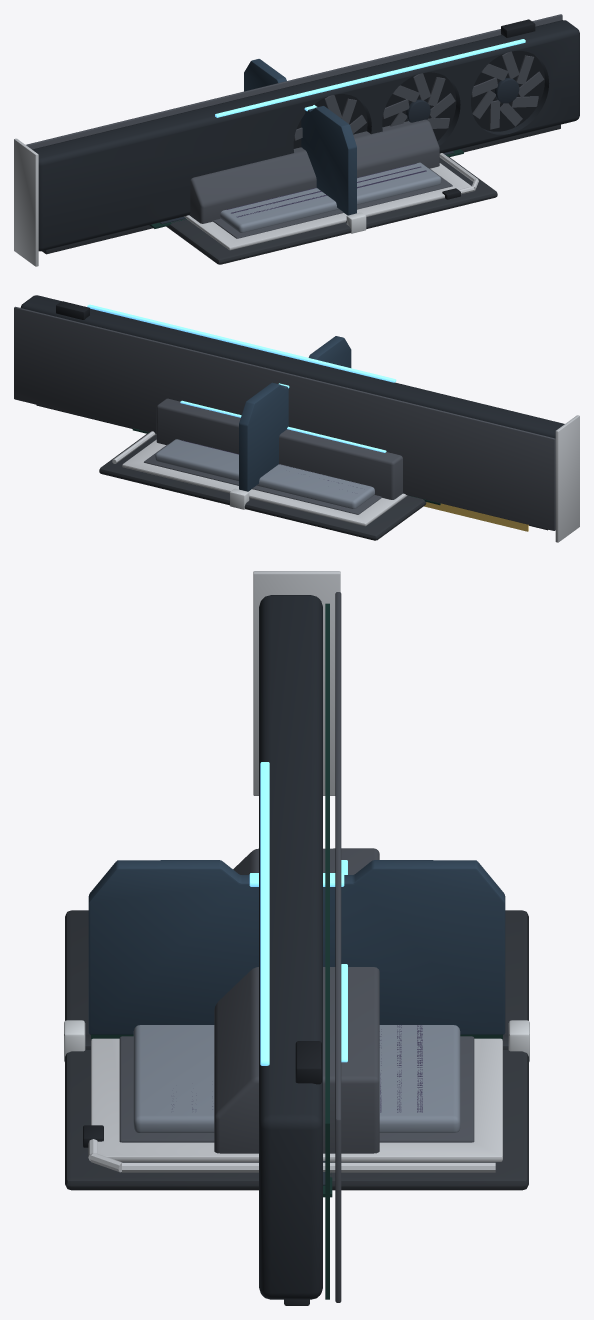
File: parts.glb
3 renders of one model, top to bottom at view 1: azimuth 30°, elevation 25°; view 2: azimuth 150°, elevation 25°; view 3: azimuth 270°, elevation 25°, orthographic. The views are drawn at different scales.
Visible parts, largest first — view 1: gpu, cpu, rear_io, dimm, slot_body, heatsink, dimm_slot; view 2: gpu, cpu, rear_io, dimm, dimm_slot; view 3: gpu, cpu, dimm, rear_io, dimm_slot.
Boxes of the visible parts, x1,y1,x2,y2 form: gpu: [14, 14, 579, 266]; cpu: [166, 153, 497, 264]; rear_io: [189, 119, 439, 223]; dimm: [244, 59, 356, 215]; slot_body: [42, 124, 560, 254]; heatsink: [226, 163, 426, 217]; dimm_slot: [346, 212, 366, 233]; gpu: [14, 295, 579, 542]; cpu: [99, 431, 426, 540]; rear_io: [156, 398, 402, 499]; dimm: [239, 336, 351, 491]; dimm_slot: [230, 488, 249, 509]; gpu: [253, 571, 341, 1302]; cpu: [65, 910, 528, 1190]; dimm: [88, 860, 505, 1040]; rear_io: [214, 848, 379, 1153]; dimm_slot: [64, 1020, 529, 1061].
Size of the model in its own units: 532 by 104 by 197.
